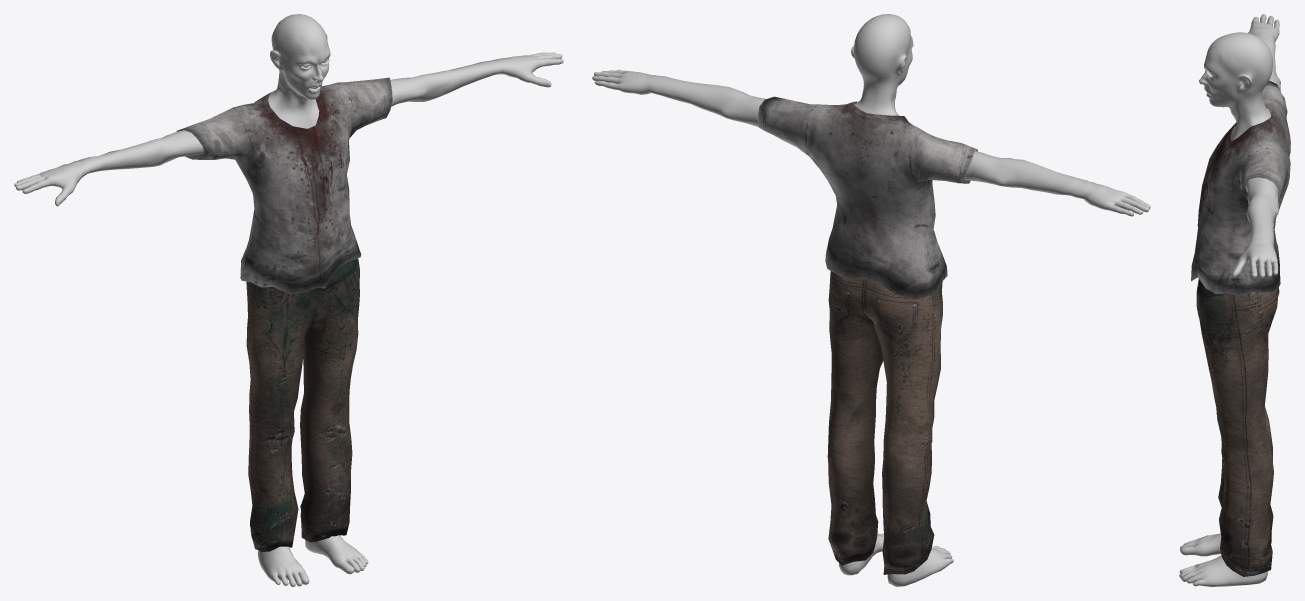
Rendered from zombie.obj.
The picture shows the model from 3 angles, left to right: view 1: azimuth 30°, elevation 25°; view 2: azimuth 150°, elevation 25°; view 3: azimuth 270°, elevation 25°; orthographic projection. The views are drawn at different scales.
Parts seen in each view (by area): view 1: Bottoms_Bottomsmesh, Tops_Topsmesh, Body_Bodymesh; view 2: Bottoms_Bottomsmesh, Tops_Topsmesh, Body_Bodymesh; view 3: Bottoms_Bottomsmesh, Tops_Topsmesh, Body_Bodymesh.
Part boxes in pixels (x1=…): Bottoms_Bottomsmesh: x1=246, y1=258, x2=359, y2=551; Tops_Topsmesh: x1=176, y1=77, x2=392, y2=294; Body_Bodymesh: x1=14, y1=14, x2=563, y2=586; Bottoms_Bottomsmesh: x1=827, y1=271, x2=942, y2=574; Tops_Topsmesh: x1=757, y1=96, x2=977, y2=300; Body_Bodymesh: x1=592, y1=14, x2=1150, y2=586; Bottoms_Bottomsmesh: x1=1196, y1=279, x2=1279, y2=576; Tops_Topsmesh: x1=1191, y1=80, x2=1290, y2=295; Body_Bodymesh: x1=1179, y1=14, x2=1280, y2=586.
Bounding box in the file's own units: 1.87 × 1.79 × 0.3385.
